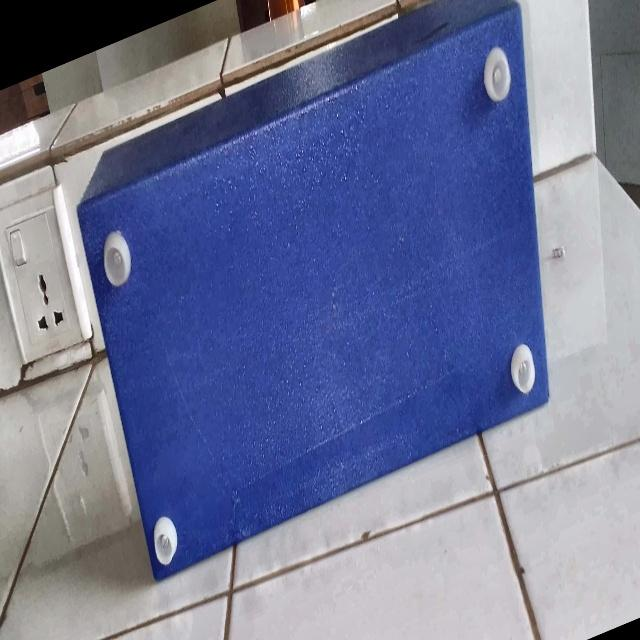Decade Capacitor Box: (59, 0, 579, 608)
